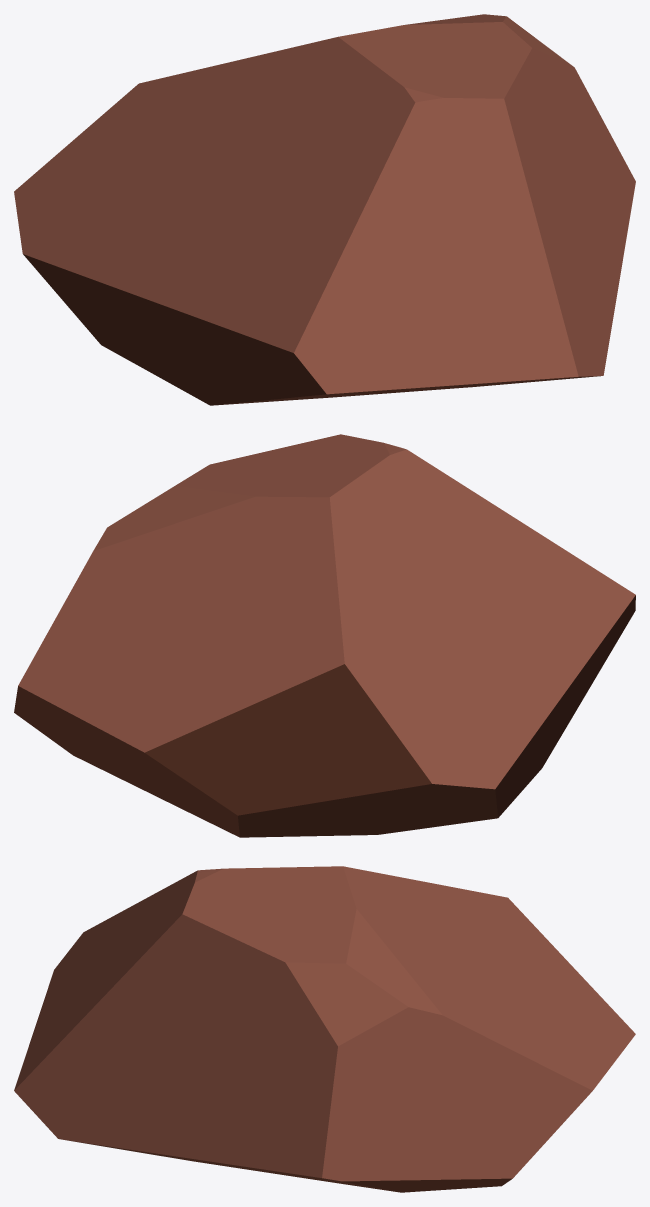
File: piedra3.fbx
3 views of the same model, one above another, from view 1: azimuth 30°, elevation 25°; view 2: azimuth 150°, elevation 25°; view 3: azimuth 270°, elevation 25° (orthographic). The views are drawn at different scales.
Parts seen in each view (by area): view 1: piedra3; view 2: piedra3; view 3: piedra3.
Part boxes in pixels (box(x1,y1,x2,y2)): piedra3: box(14, 14, 635, 405); piedra3: box(14, 434, 635, 837); piedra3: box(14, 866, 635, 1192).
Bounding box in the file's own units: 156 × 86.27 × 175.
